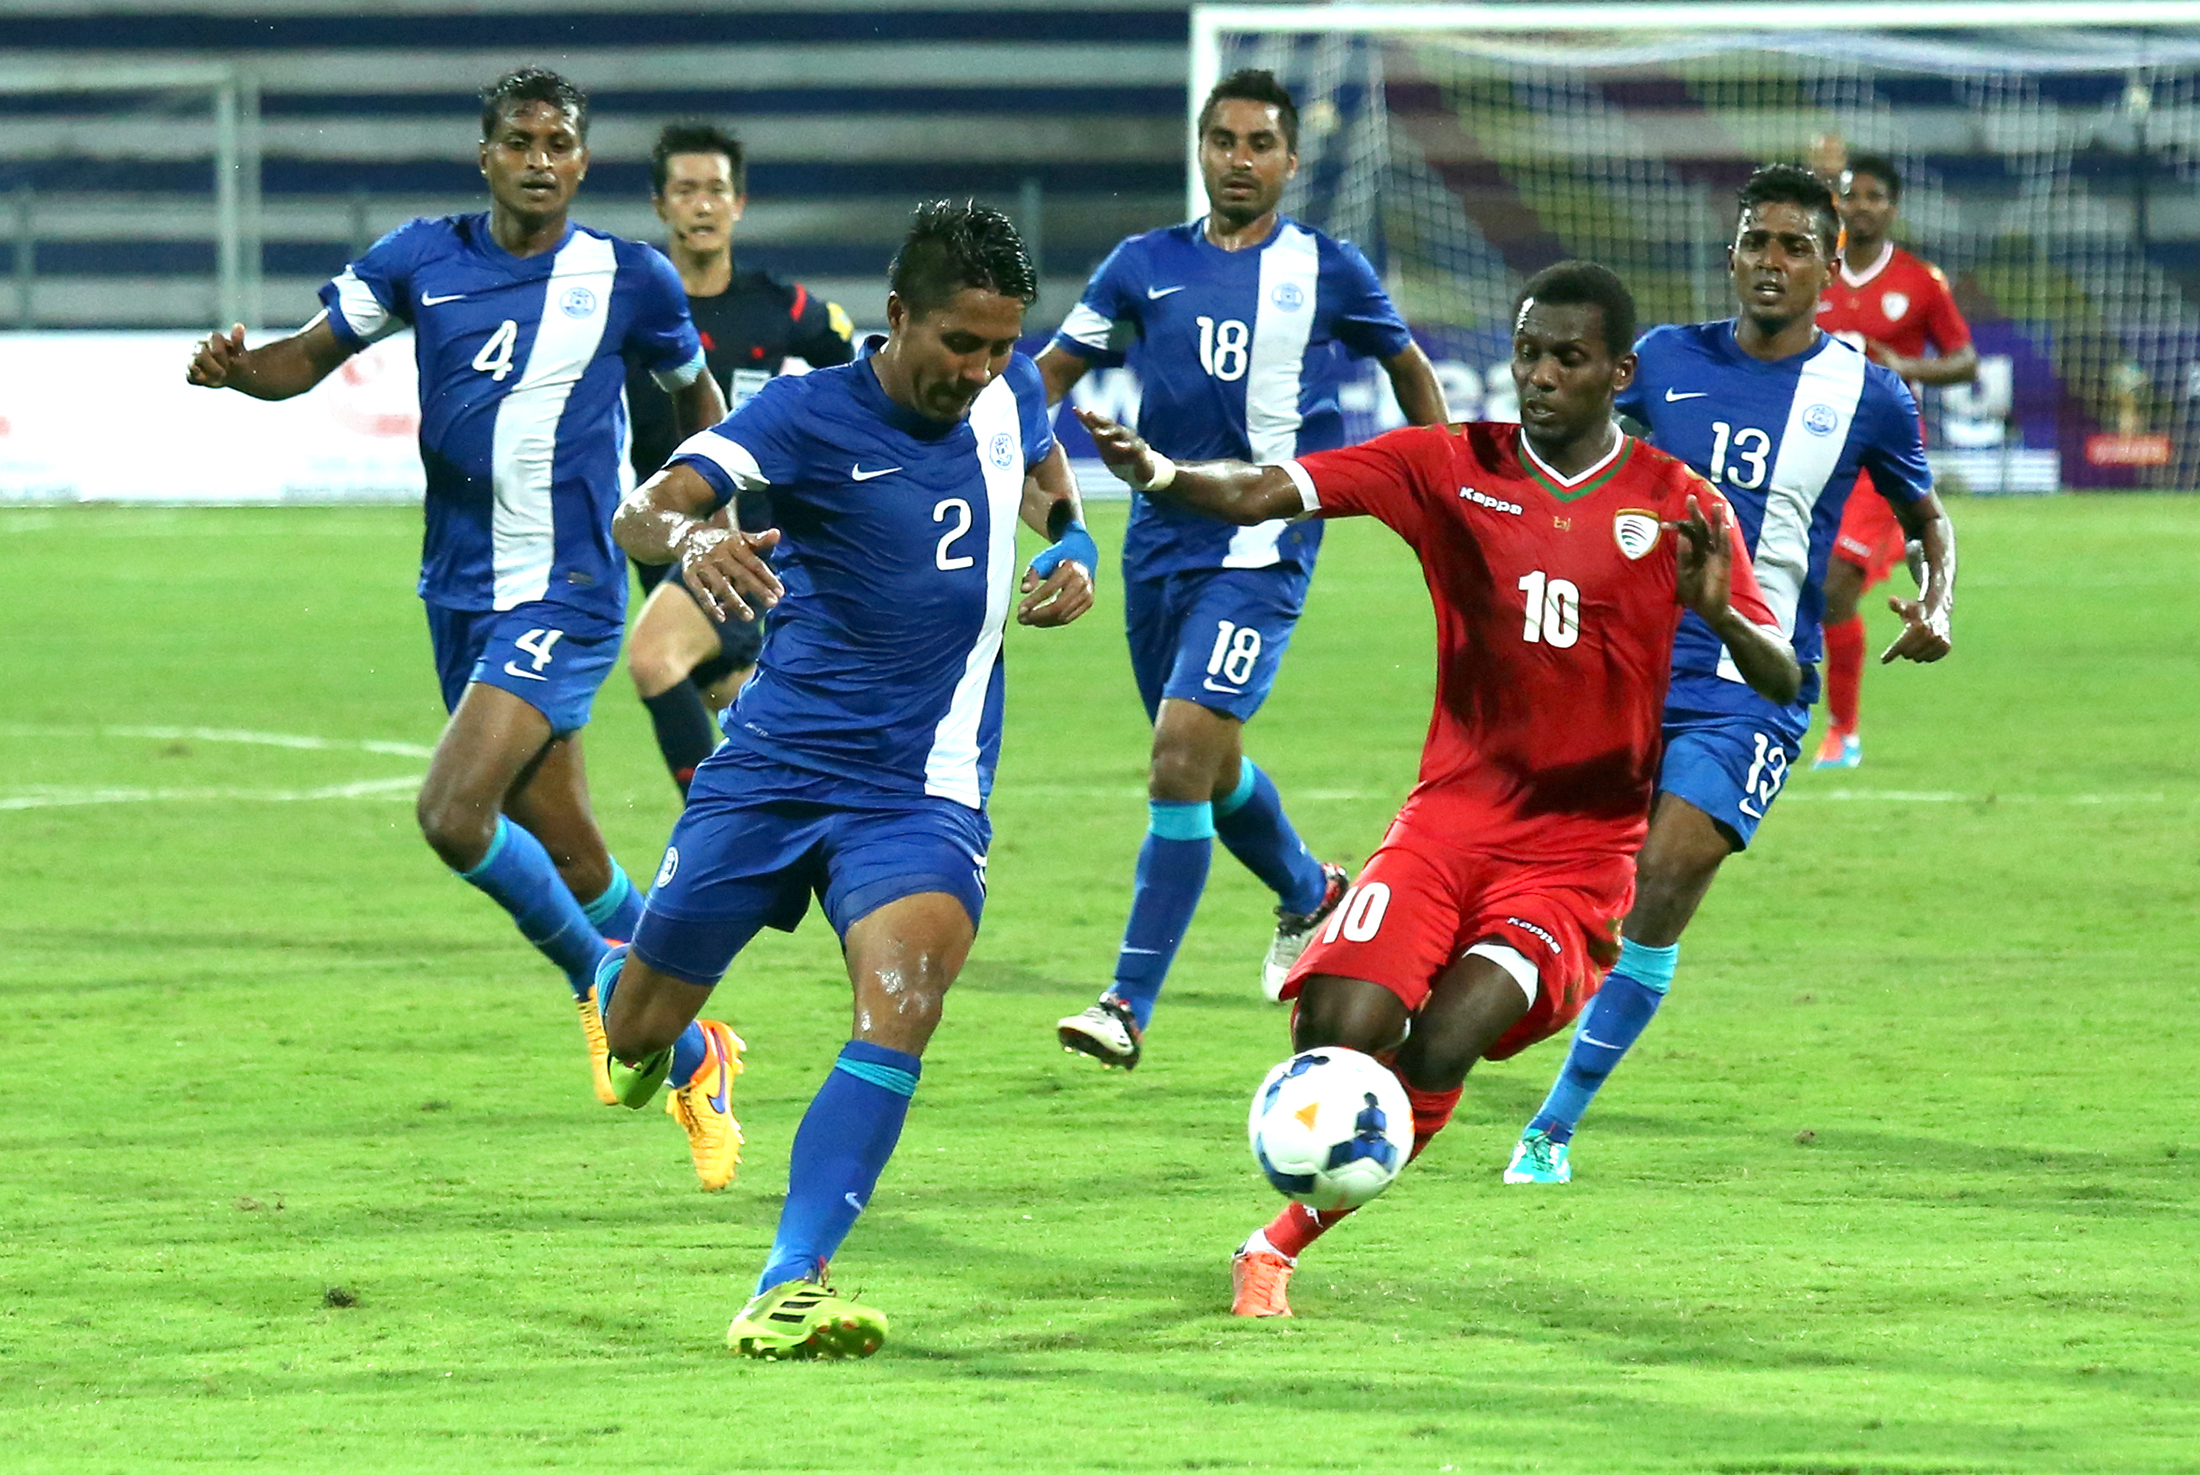soccer player: (1084, 297, 1808, 1362), (612, 193, 1105, 1376), (184, 74, 715, 1046), (1605, 193, 1961, 1237), (1033, 67, 1377, 1079)
soccerball: (1247, 1044, 1426, 1216)
